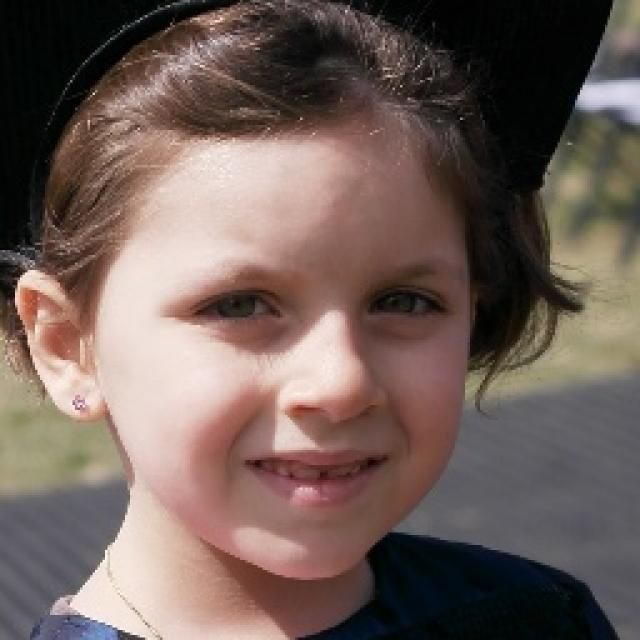earlobe: (11, 270, 110, 424)
